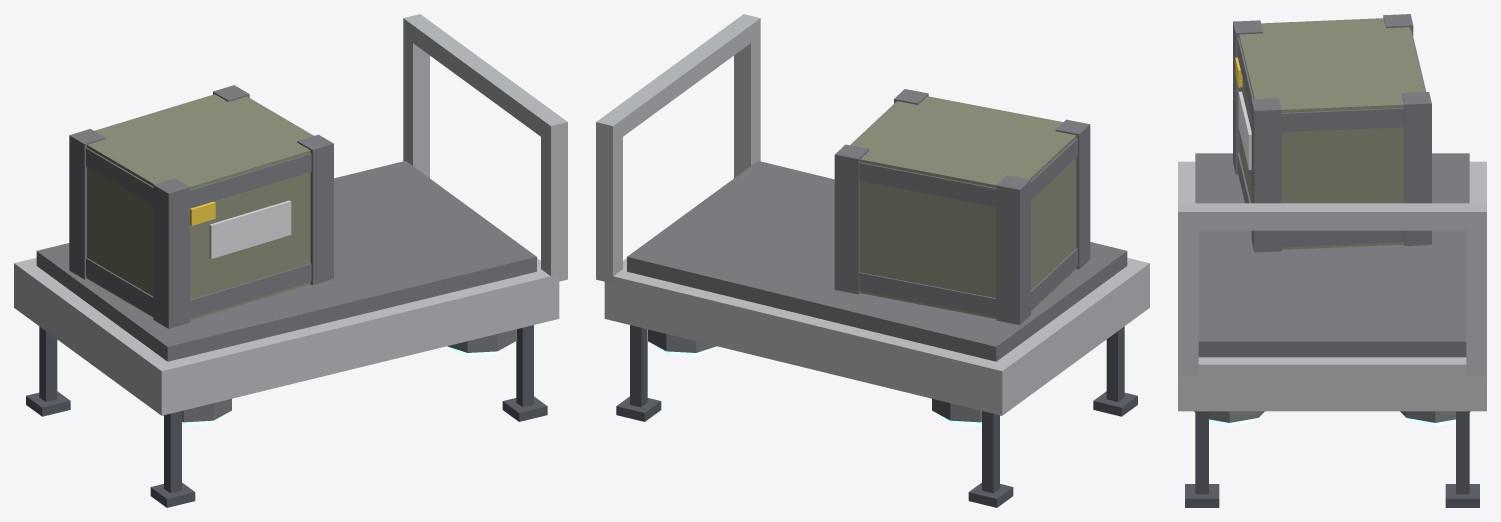
Rendered from SM_Hover_Cart.fbx.
The picture shows the model from 3 angles, left to right: view 1: azimuth 30°, elevation 25°; view 2: azimuth 150°, elevation 25°; view 3: azimuth 270°, elevation 25°; orthographic projection. The views are drawn at different scales.
Visible parts, largest first — view 1: SM_Hover_Cart; view 2: SM_Hover_Cart; view 3: SM_Hover_Cart.
Boxes of the visible parts, x1=… form: SM_Hover_Cart: x1=14, y1=14, x2=567, y2=507; SM_Hover_Cart: x1=596, y1=14, x2=1149, y2=507; SM_Hover_Cart: x1=1178, y1=14, x2=1486, y2=507.
Size of the model in its own units: 1.43 by 0.98 by 0.9.
